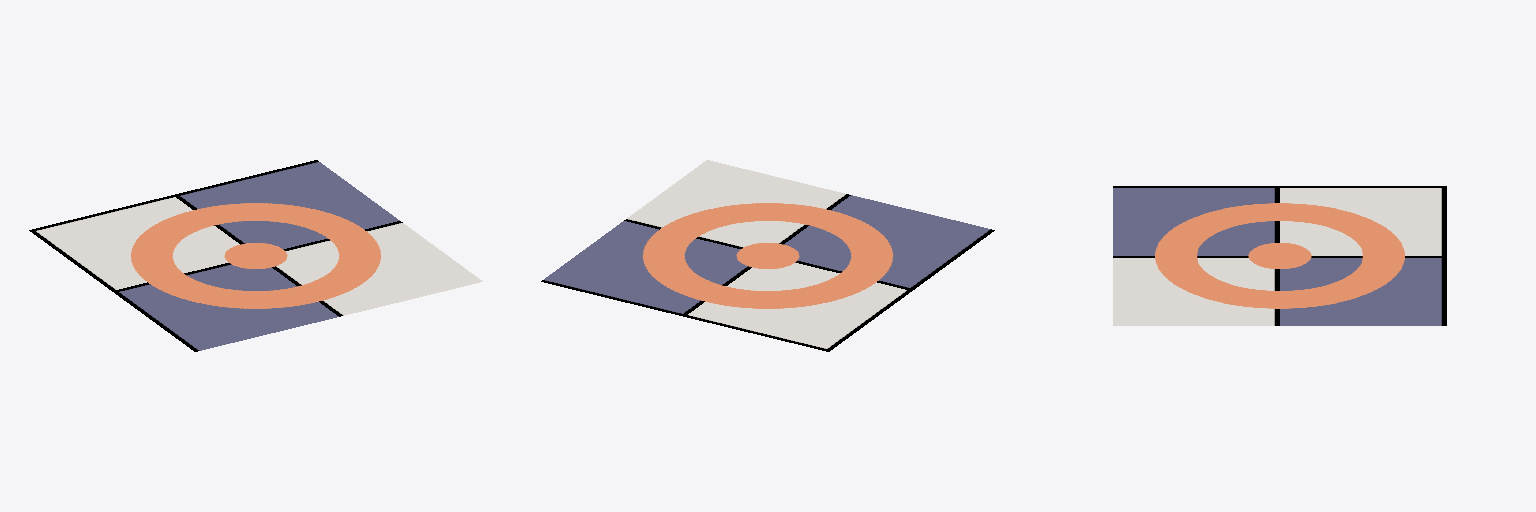
3 renders of one model, left to right at view 1: azimuth 30°, elevation 25°; view 2: azimuth 150°, elevation 25°; view 3: azimuth 270°, elevation 25°, orthographic.
Visible parts, largest first — view 1: pPlane2; view 2: pPlane2; view 3: pPlane2.
Part boxes in pixels (x1,y1,x2,y2): pPlane2: (29, 160, 482, 351); pPlane2: (541, 160, 994, 351); pPlane2: (1113, 186, 1446, 325).
Bounding box in the file's own units: 6 × 0 × 6.
Materials: 1 (1 with a texture image).